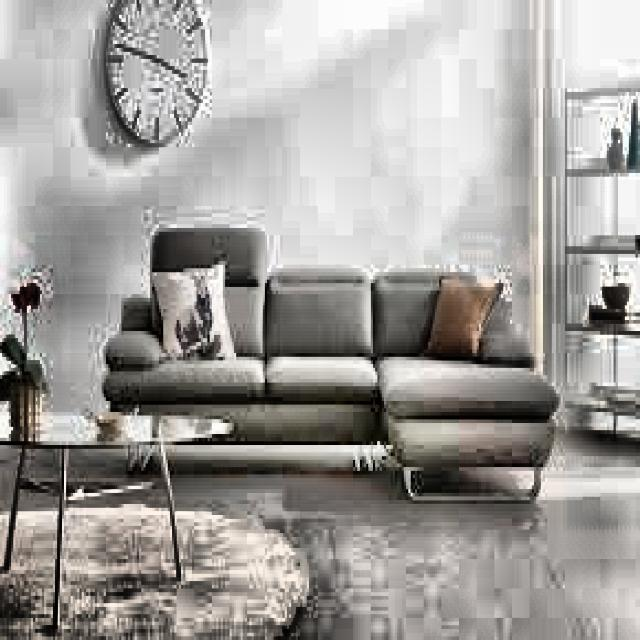sofa: (97, 224, 561, 486)
